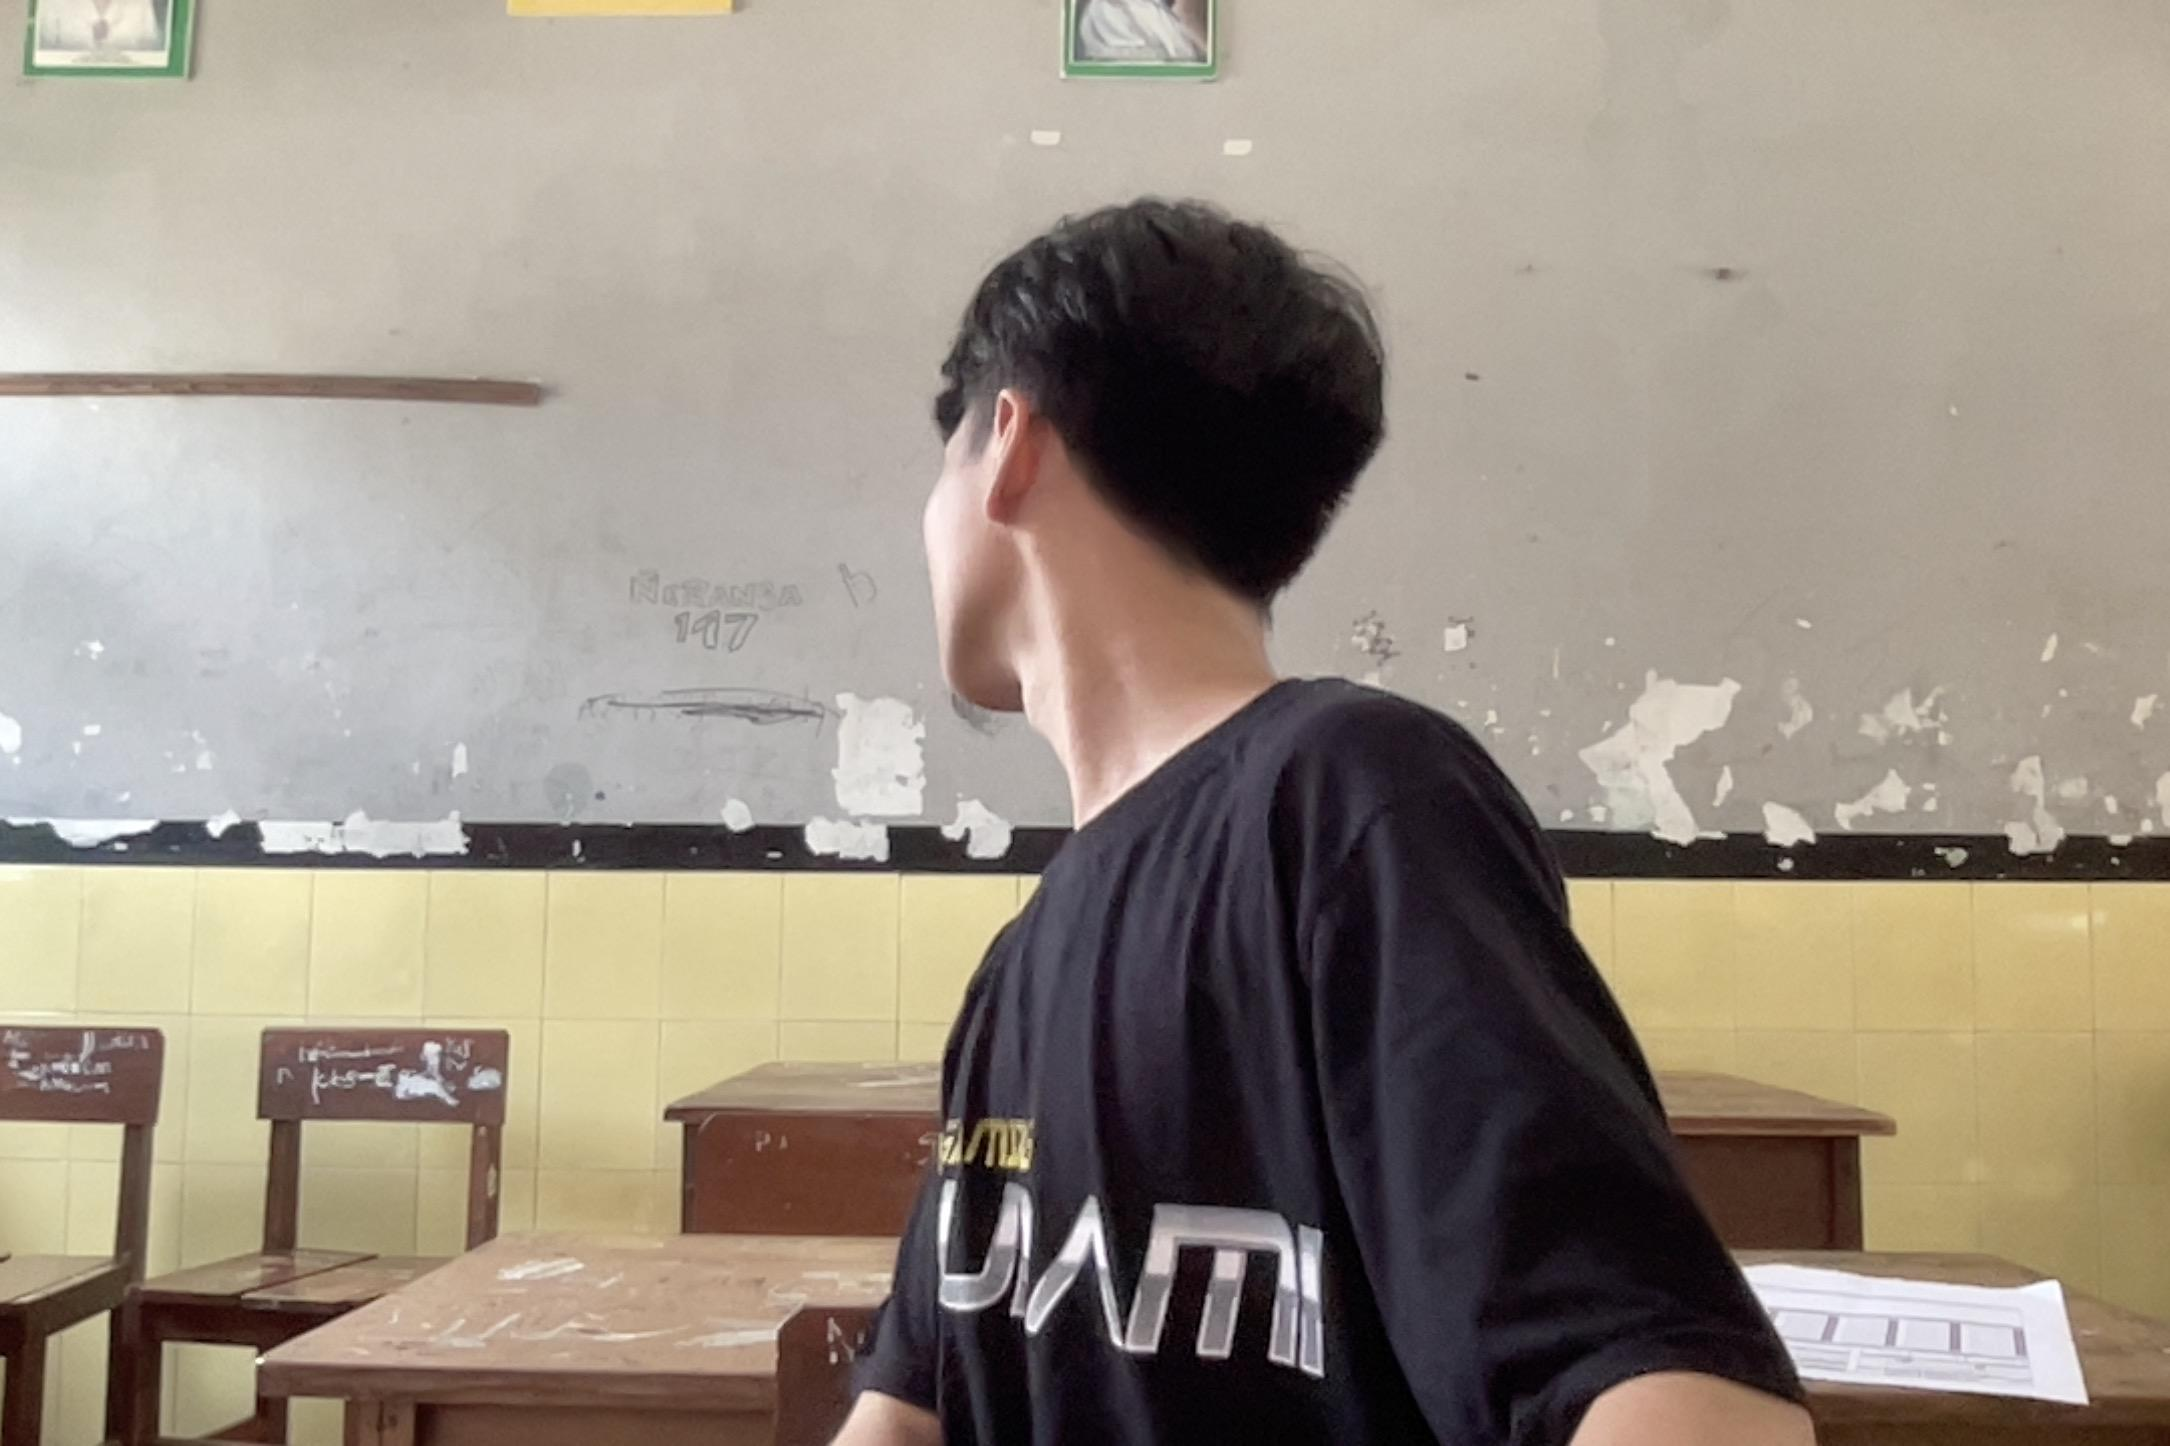cheating: (787, 157, 1844, 1446)
